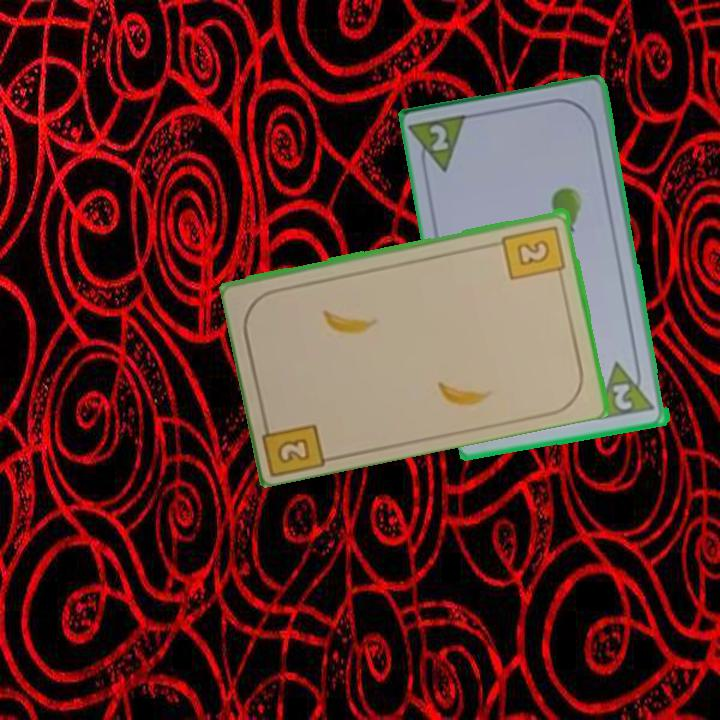2b: (259, 412, 331, 476), (499, 221, 568, 282)
2p: (426, 121, 453, 155), (610, 380, 636, 414)
